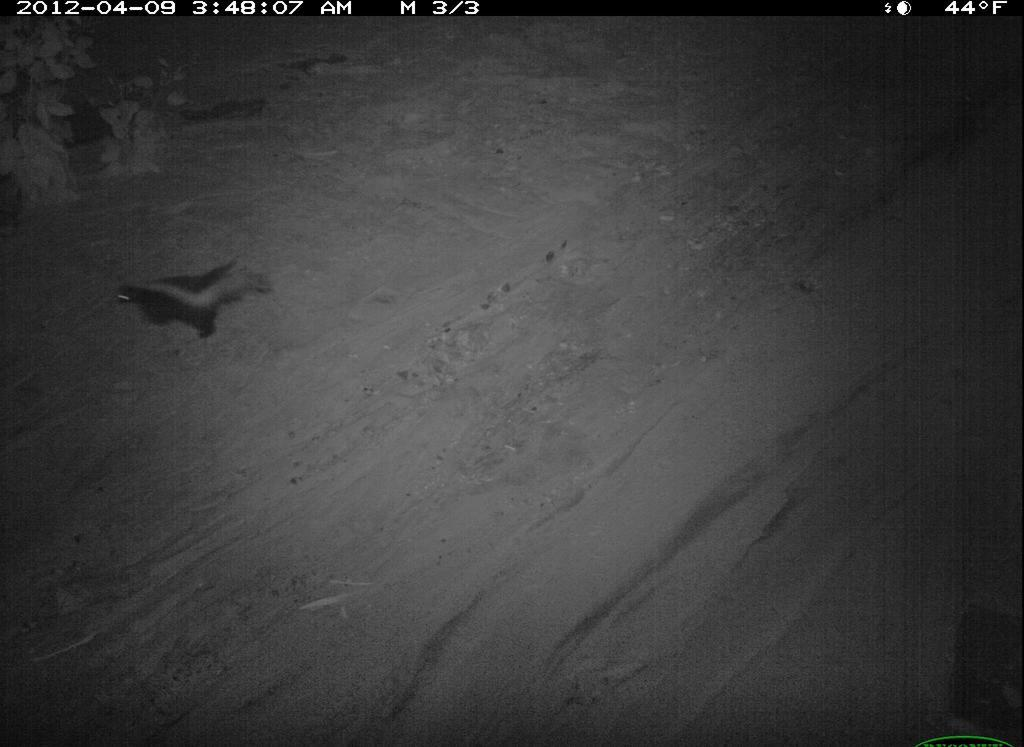skunk: (217, 511, 556, 681)
